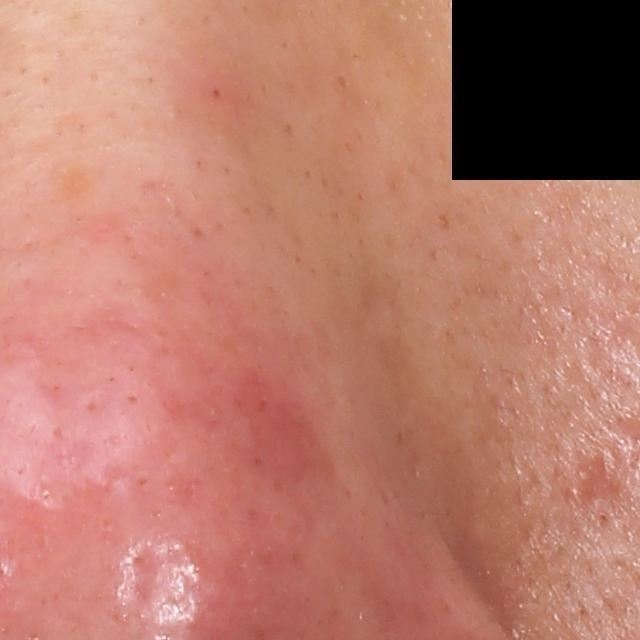atrophic_scar: (128, 536, 177, 617)
